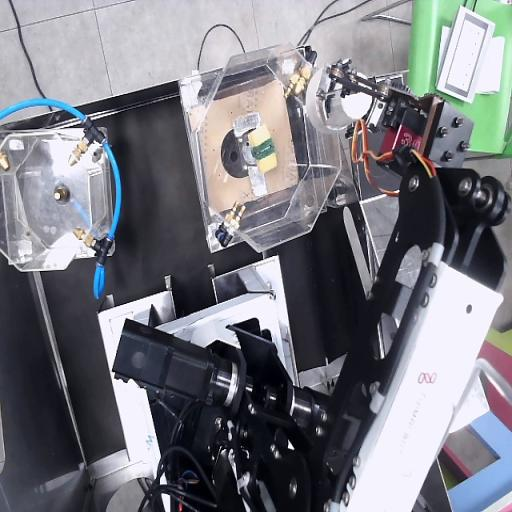cup in wash station: (305, 69, 373, 132)
